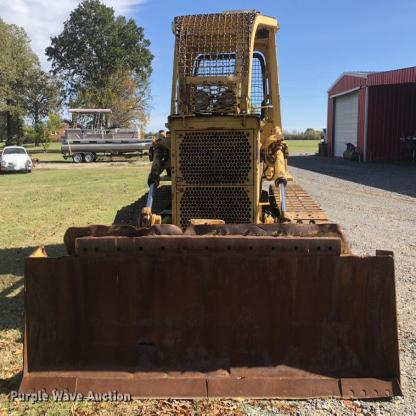bull_dozer/loader/grader: (9, 6, 412, 402)
